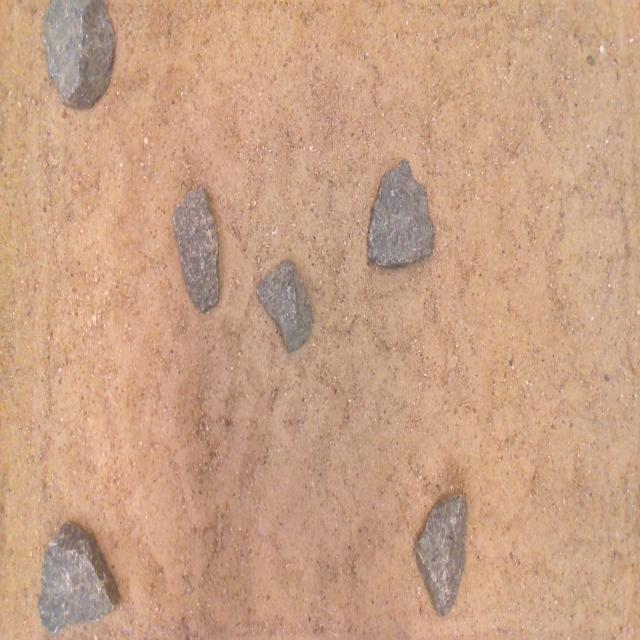rock: (38, 521, 119, 632), (44, 0, 115, 108), (368, 160, 433, 265), (416, 495, 467, 615), (173, 187, 219, 311), (257, 261, 312, 352)
